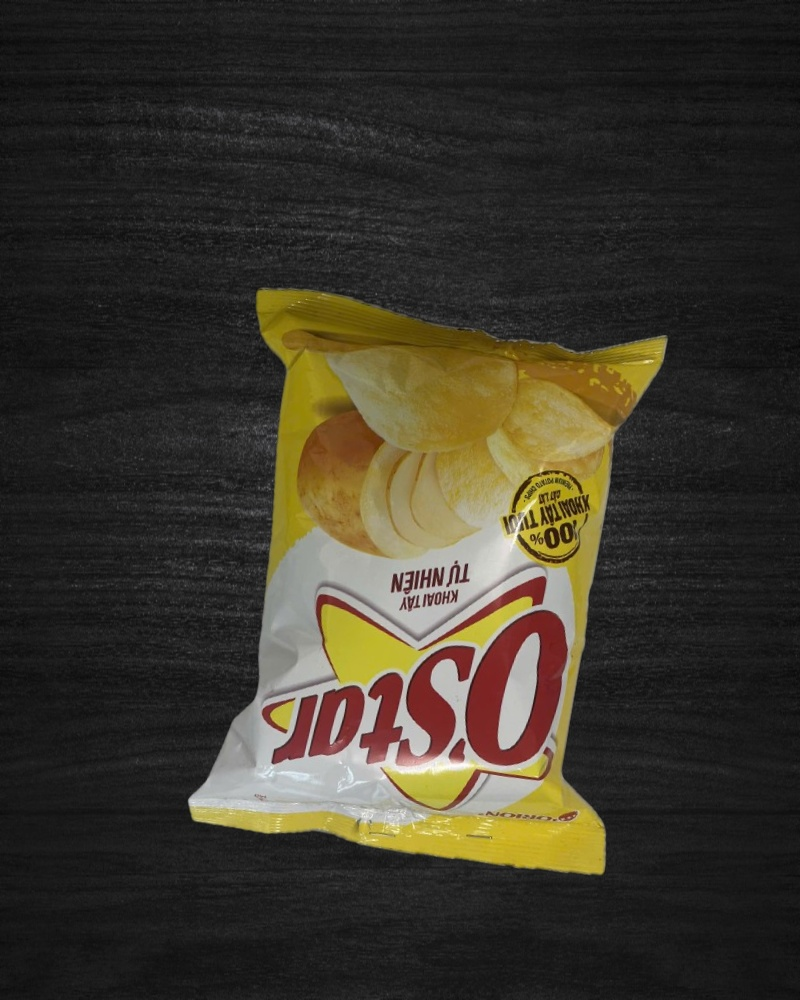Snack cua: (171, 272, 695, 887)
